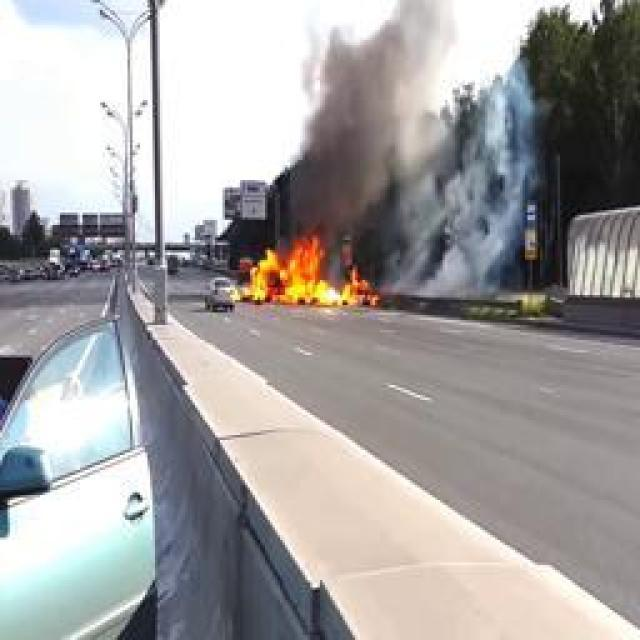Fire: (242, 238, 382, 308)
